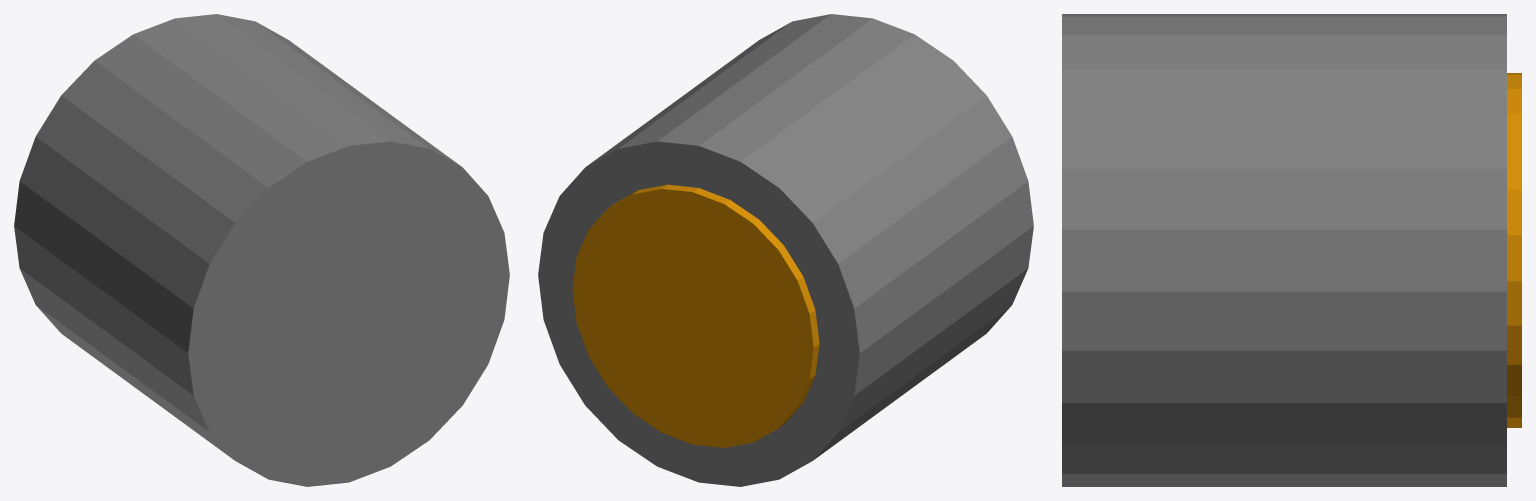
The model's file is booster.glb.
3 views of the same model, side by side, from view 1: azimuth 30°, elevation 25°; view 2: azimuth 150°, elevation 25°; view 3: azimuth 270°, elevation 25° (orthographic). The views are drawn at different scales.
Parts seen in each view (by area): view 1: world; view 2: world; view 3: world.
Part boxes in pixels (<box>): world: <box>14,14,509,486</box>; world: <box>538,14,1033,486</box>; world: <box>1062,14,1521,486</box>.
Bounding box in the file's own units: 1.6 × 1.6 × 1.55.
